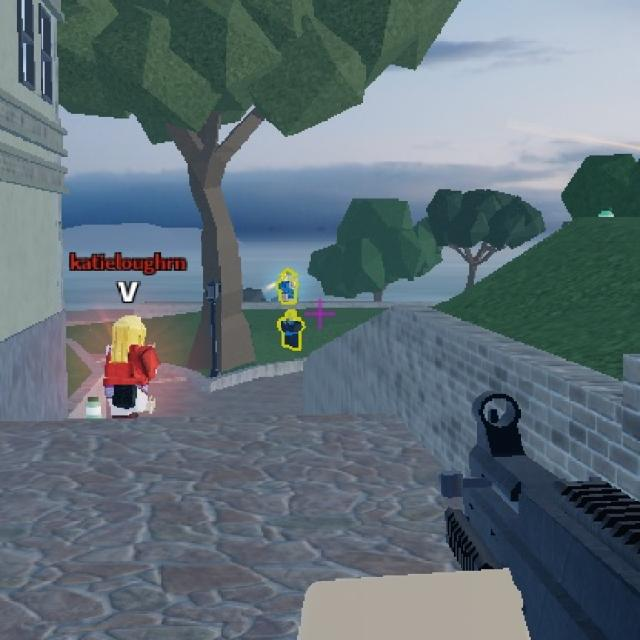player: (278, 307, 305, 353), (275, 268, 301, 297)
